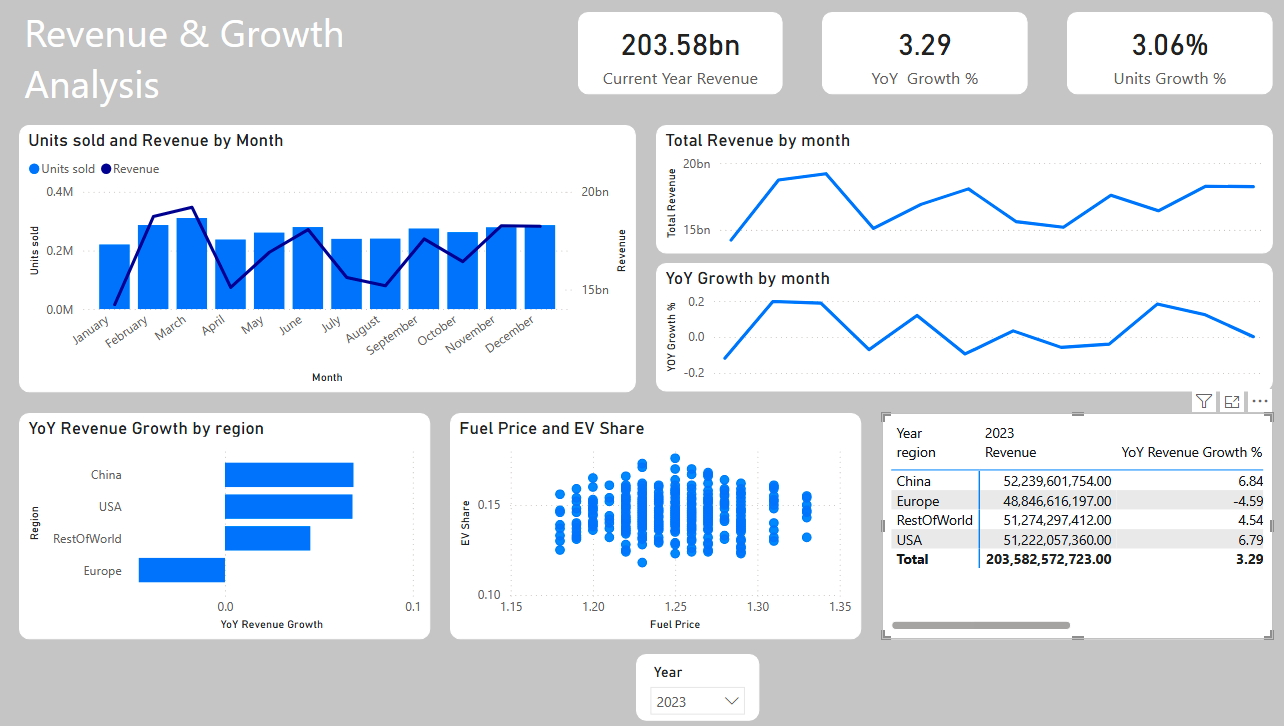

The dashboard page shown, as its layout file describes it:
{"tool":"powerbi","page":{"name":"Revenue & Growth Analysis","canvas":[1280,720],"ordinal":1},"visuals":[{"type":"card","fields":{"Values":["public bmw_data.1YoY Revenue Growth %"]},"box":[801.5,20.4,200.4,79.8],"z":0},{"type":"card","fields":{"Values":["Sum(public bmw_data.revenue_eur)"]},"box":[564.1,20.4,199.4,79.8],"z":1000},{"type":"lineChart","fields":{"Category":["public bmw_data.year Hierarchy.month"],"Y":["public bmw_data.Total Revenue"]},"box":[640,130,600,125],"z":2000},{"type":"slicer","fields":{"Values":["Date.Date.Variation.Date Hierarchy.Year","Date.Date.Variation.Date Hierarchy.Month"]},"box":[465.9,131.3,143,73.9],"z":3000},{"type":"card","fields":{"Values":["public bmw_data.2YoY Units Growth %"]},"box":[1039.8,20.4,200.4,79.8],"z":4000},{"type":"lineClusteredColumnComboChart","fields":{"Category":["Date.Date.Variation.Date Hierarchy.Month"],"Y":["Sum(public bmw_data.units_sold)"],"Y2":["Sum(public bmw_data.revenue_eur)"]},"box":[20,130,600,260],"z":5000},{"type":"lineChart","title":"YoY Growth by month","fields":{"Category":["public bmw_data.year Hierarchy.month"],"Y":["public bmw_data.4YoY Growth"]},"box":[640,265,600,125],"z":6000},{"type":"clusteredBarChart","fields":{"Y":["public bmw_data.4YoY Growth"],"Category":["public bmw_data.region"]},"box":[20,410,400,220],"z":7000},{"type":"scatterChart","fields":{"X":["public bmw_data.fuel_price_index"],"Y":["public bmw_data.bev_share"]},"box":[440,410,400,220],"z":8000},{"type":"slicer","fields":{"Values":["Date.Date.Variation.Date Hierarchy.Year"]},"box":[620.5,644.9,119.6,65.2],"z":9000},{"type":"pivotTable","fields":{"Rows":["public bmw_data.region"],"Columns":["Date.Year"],"Values":["Sum(public bmw_data.revenue_eur)","public bmw_data.1YoY Revenue Growth %"]},"box":[860,410,380,220],"z":10000},{"type":"textbox","box":[20.4,9.7,445.5,121.6],"z":11000}]}

Visuals, with their boxes in screenshot pixels (x1, y1, x2, y2), scaled from the page's 1280x720 canvas onto the 1284x726 screenshot:
card - public bmw_data.1YoY Revenue Growth %: 804, 21, 1005, 101
card - Sum(public bmw_data.revenue_eur): 566, 21, 766, 101
lineChart - public bmw_data.year Hierarchy.month x public bmw_data.Total Revenue: 642, 131, 1244, 257
slicer - Date.Date.Variation.Date Hierarchy.Year x Date.Date.Variation.Date Hierarchy.Month: 467, 132, 611, 207
card - public bmw_data.2YoY Units Growth %: 1043, 21, 1244, 101
lineClusteredColumnComboChart - Date.Date.Variation.Date Hierarchy.Month x Sum(public bmw_data.units_sold): 20, 131, 622, 393
"YoY Growth by month" lineChart: 642, 267, 1244, 393
clusteredBarChart - public bmw_data.4YoY Growth x public bmw_data.region: 20, 413, 421, 635
scatterChart - public bmw_data.fuel_price_index x public bmw_data.bev_share: 441, 413, 843, 635
slicer - Date.Date.Variation.Date Hierarchy.Year: 622, 650, 742, 716
pivotTable - public bmw_data.region x Date.Year: 863, 413, 1244, 635
textbox: 20, 10, 467, 132
